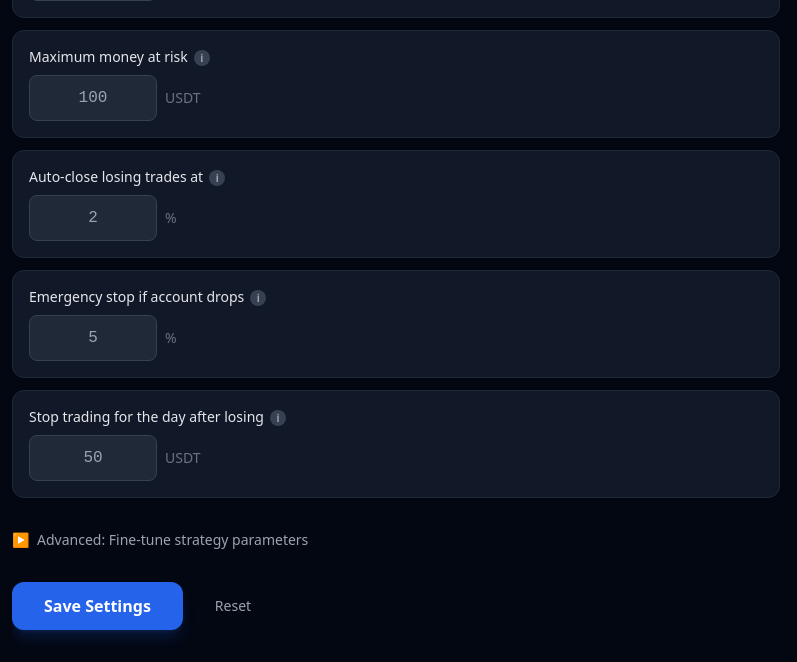
SettingsPage › pre-populates config values from GET /api/config
(page scrolled)
Click the button "▶ Advanced: Fine-tune strategy parameters".
click(160, 540)  # box [12,530,308,550]
(page scrolled)
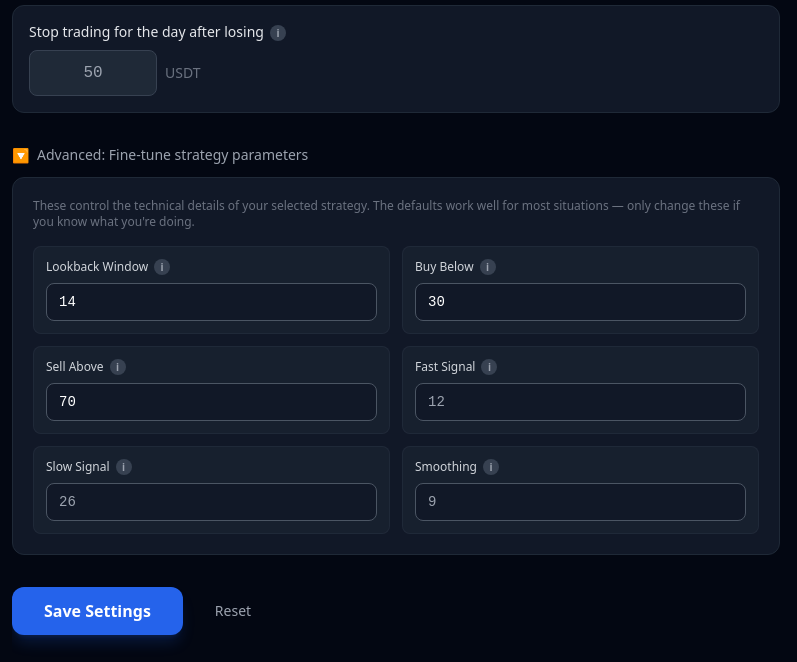
Now the field with test id "input-rsi_period" holds "14", box [46,283,377,321]
